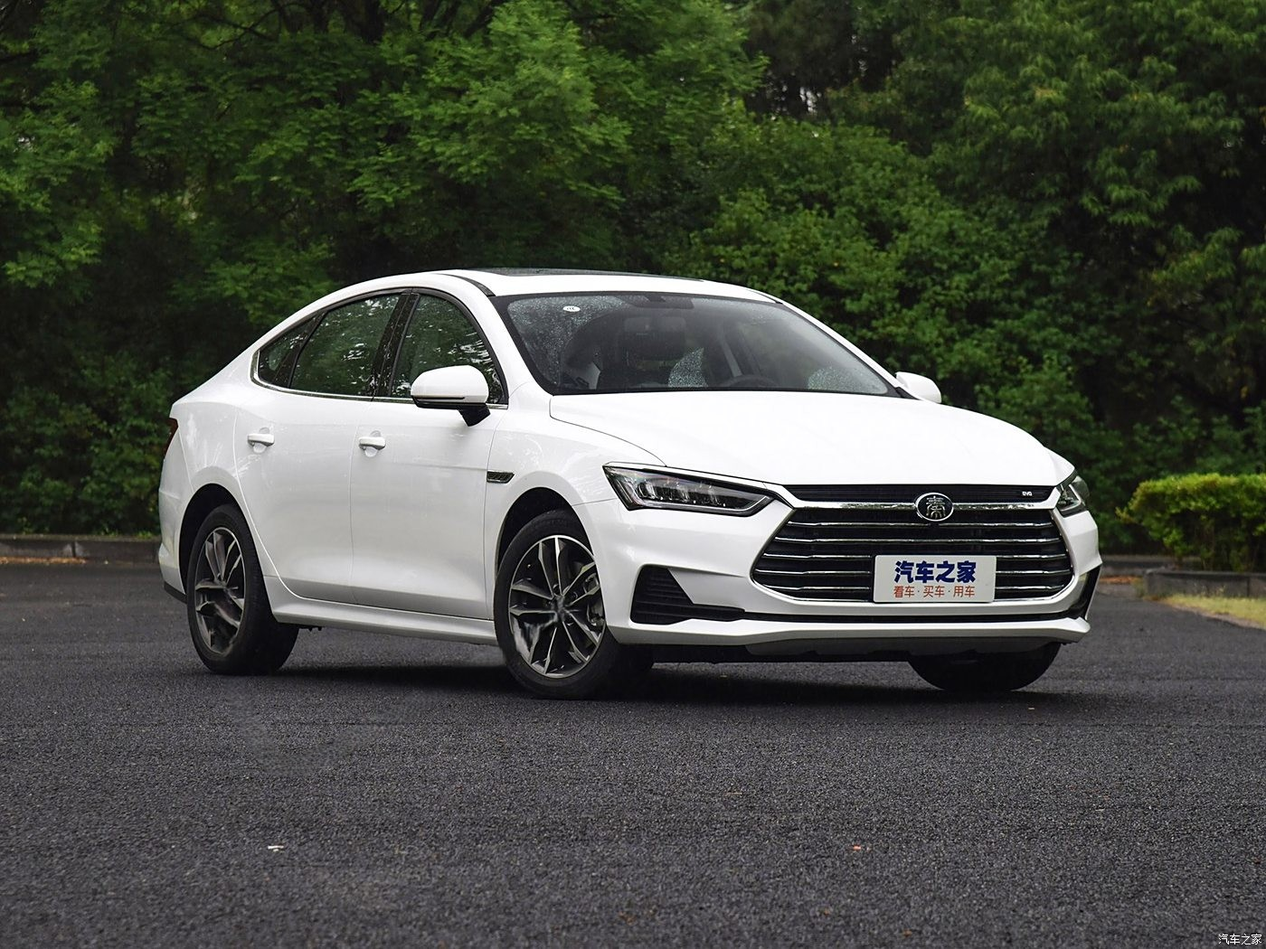BYD Qin: (917, 493, 953, 521)
